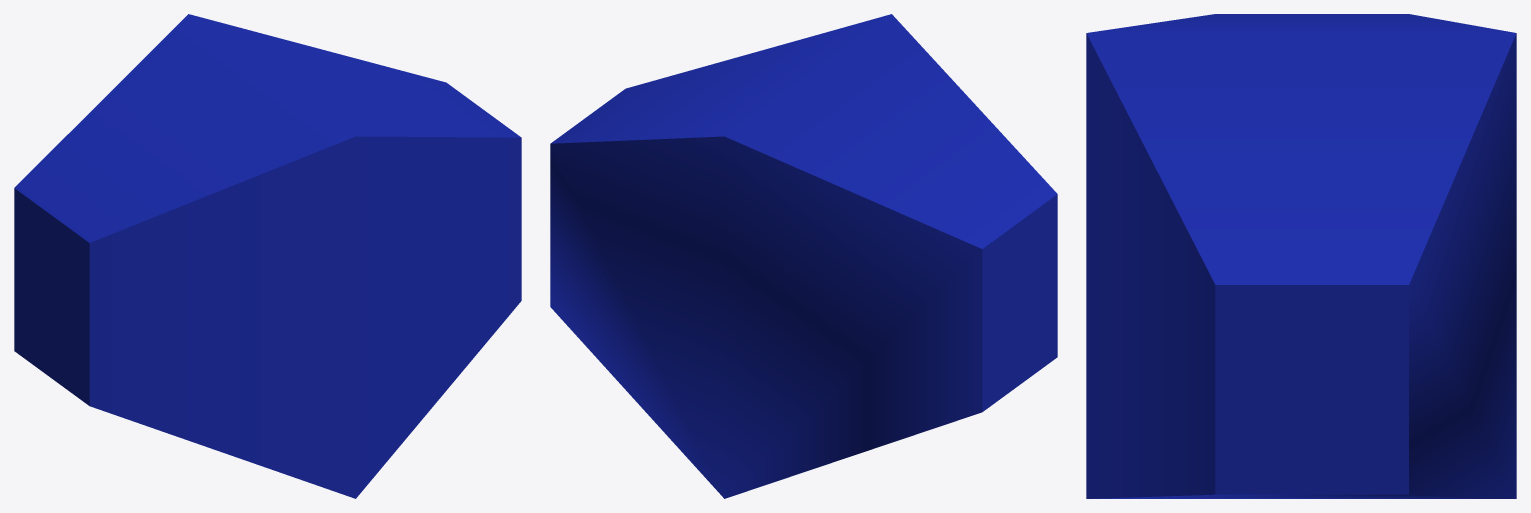
The model's file is Diamond.obj.
The picture shows the model from 3 angles, left to right: view 1: azimuth 30°, elevation 25°; view 2: azimuth 150°, elevation 25°; view 3: azimuth 270°, elevation 25°; orthographic projection. The views are drawn at different scales.
Visible parts, largest first — view 1: Diamond; view 2: Diamond; view 3: Diamond.
Boxes of the visible parts, box(x1,y1,x2,y2) form: Diamond: box(14, 14, 521, 498); Diamond: box(550, 14, 1057, 498); Diamond: box(1086, 14, 1516, 498).
Bounding box in the file's own units: 5.04 × 4.04 × 3.38.
